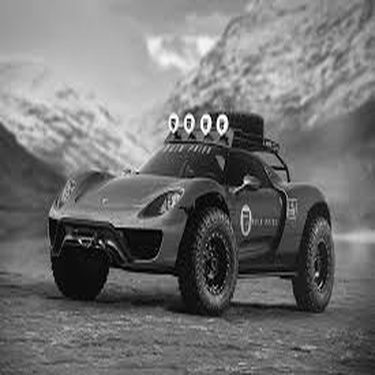car: (38, 101, 339, 314)
